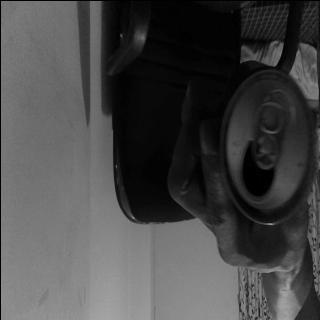alumunium_can: (224, 78, 314, 225)
